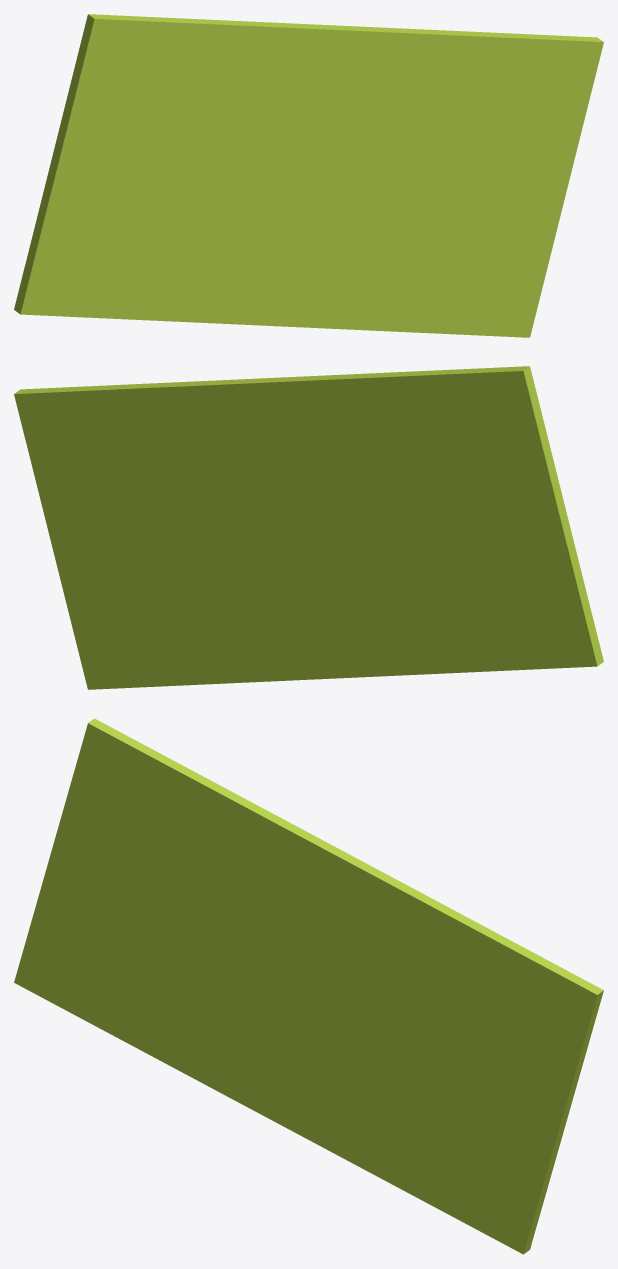
The picture shows the model from 3 angles, top to bottom: view 1: azimuth 30°, elevation 25°; view 2: azimuth 150°, elevation 25°; view 3: azimuth 330°, elevation 25°; orthographic projection.
Visible parts, largest first — view 1: osm-way27917482-F-1; view 2: osm-way27917482-F-1; view 3: osm-way27917482-F-1.
Boxes of the visible parts, bbox=[...] form: osm-way27917482-F-1: bbox=[14, 14, 603, 337]; osm-way27917482-F-1: bbox=[14, 366, 603, 689]; osm-way27917482-F-1: bbox=[14, 718, 603, 1254].
Size of the model in its own units: 7.73 by 5.38 by 0.15.
